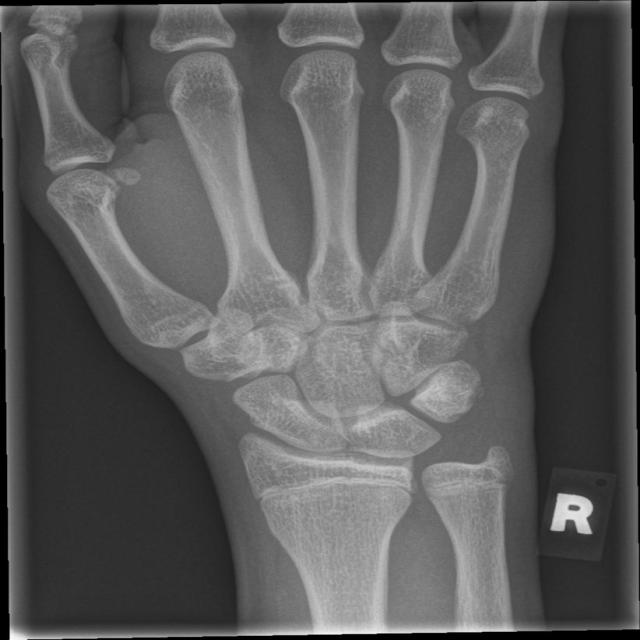fracture: (234, 472, 423, 517), (408, 462, 526, 507)
